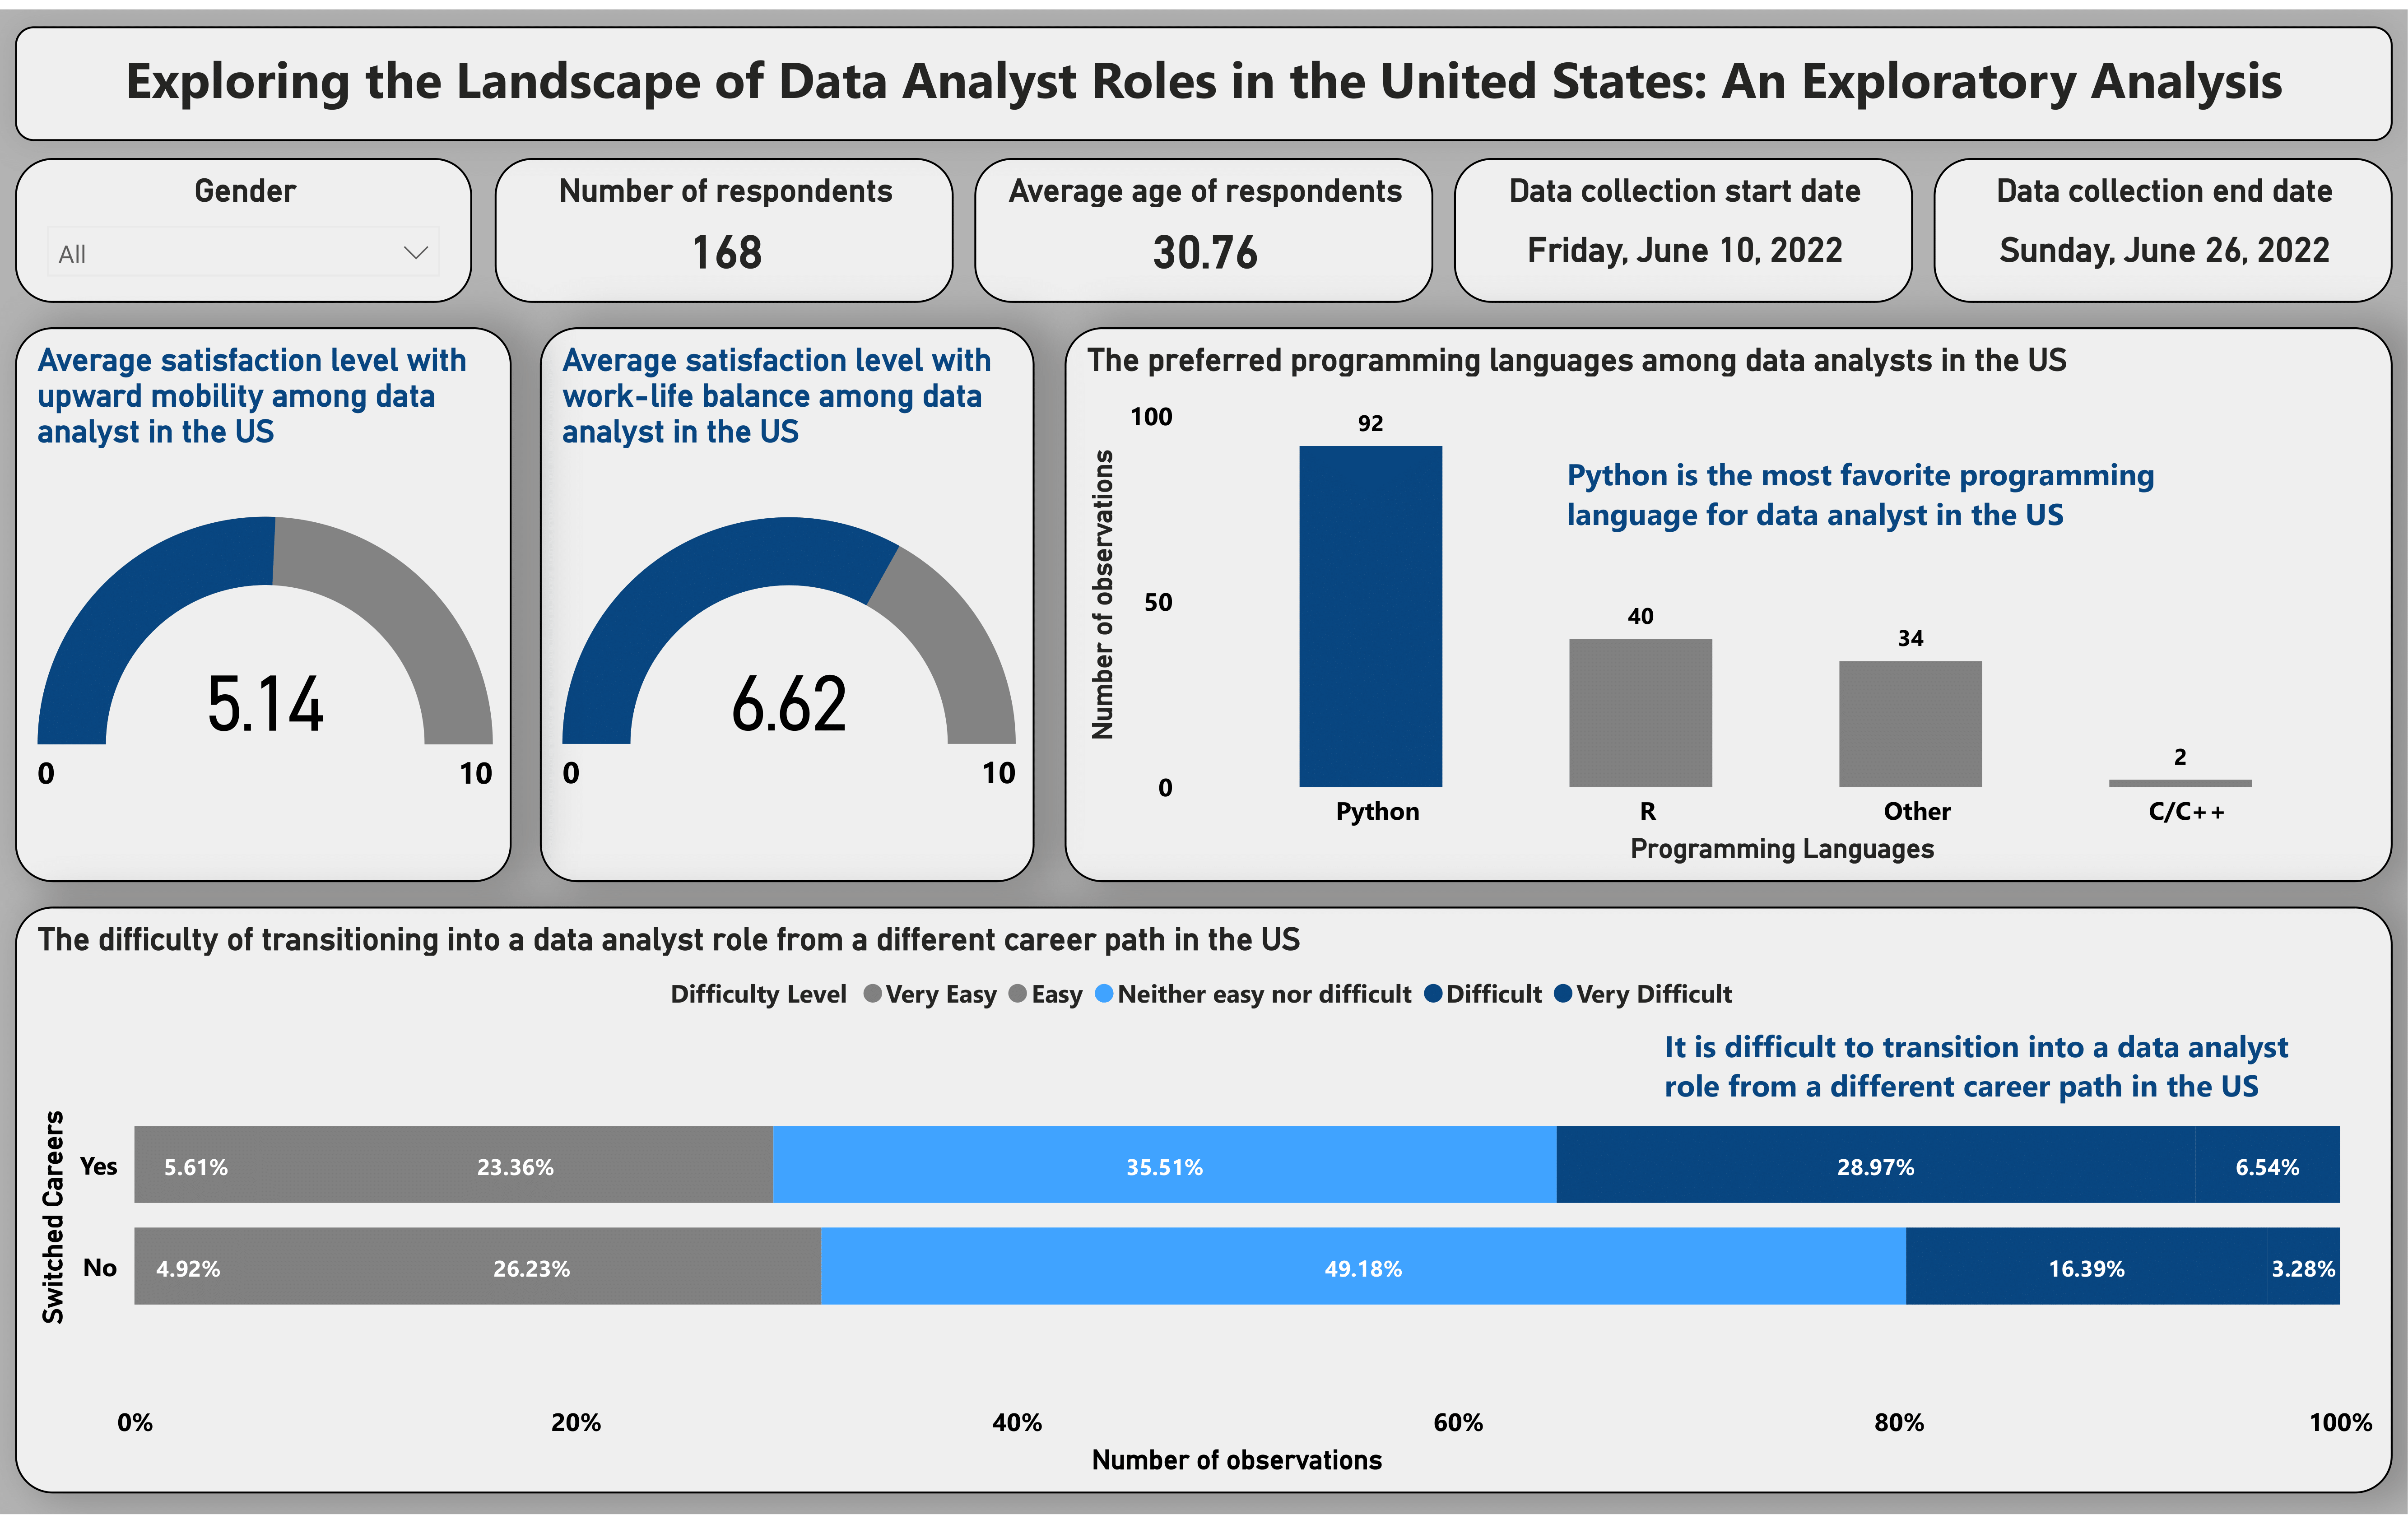

This screenshot's page, from the dashboard's own definition file:
{"tool":"powerbi","page":{"name":"data_professional_survey_analysis","canvas":[1280,800],"ordinal":0},"visuals":[{"type":"card","title":"Number of respondents","fields":{"Values":["CountNonNull(Data Analyst Survey (US).Unique ID)"]},"box":[263,79,244,77],"z":0},{"type":"card","title":"Average age of respondents","fields":{"Values":["Avg(Data Analyst Survey (US).Age)"]},"box":[518,79,244,77],"z":1000},{"type":"textbox","box":[7.8,8.7,1264.1,61.2],"z":2000},{"type":"gauge","title":"Average satisfaction level with work-life balance among data analyst in the US","fields":{"Y":["Avg(Data Analyst Survey (US).How Happy are you in your Current Position with the following? (Work/Life Balance))"],"MinValue":["Min(Data Analyst Survey (US).How Happy are you in your Current Position with the following? (Work/Life Balance))"],"MaxValue":["Max(Data Analyst Survey (US).How Happy are you in your Current Position with the following? (Work/Life Balance))"]},"box":[287,169,263,295],"z":3000},{"type":"gauge","title":"Average satisfaction level with upward mobility among data analyst in the US","fields":{"Y":["Avg(Data Analyst Survey (US).How Happy are you in your Current Position with the following? (Upward Mobility))"],"MinValue":["Min(Data Analyst Survey (US).How Happy are you in your Current Position with the following? (Upward Mobility))"],"MaxValue":["Max(Data Analyst Survey (US).How Happy are you in your Current Position with the following? (Upward Mobility))"]},"box":[8,169,264,295],"z":4000},{"type":"hundredPercentStackedBarChart","title":"The difficulty of transitioning into a data analyst role from a different career path in the US","fields":{"Y":["CountNonNull(Data Analyst Survey (US).Unique ID)"],"Category":["Data Analyst Survey (US).Did you switch careers into Data?"],"Series":["Difficulty.Difficulty"]},"box":[8,477.2,1264.5,311.9],"z":5000,"group":"g3"},{"type":"card","title":"Data collection end date","fields":{"Values":["Max(Data Analyst Survey (US).Date Taken)"]},"box":[1028,79,244,77],"z":6000},{"type":"clusteredColumnChart","title":"The preferred programming languages among data analysts in the US","fields":{"Category":["Data Analyst Survey (US).Favorite Programming Language"],"Y":["CountNonNull(Data Analyst Survey (US).Unique ID)"]},"box":[566,169,706,295],"z":6000,"group":"g2"},{"type":"slicer","title":"Gender","fields":{"Values":["Data Analyst Survey (US).Gender"]},"box":[8,79,243,77],"z":7000},{"type":"card","title":"Data collection start date","fields":{"Values":["Min(Data Analyst Survey (US).Date Taken)"]},"box":[773,79,244,77],"z":8000},{"type":"group","id":"g1","title":"Group 2","box":[566,169,706,295],"z":10000},{"type":"textbox","box":[828,231,344,61],"z":10003,"group":"g2"},{"type":"group","id":"g2","title":"Group 3","box":[566,169,706,295],"z":10005,"group":"g1"},{"type":"textbox","box":[880.1,535,363,55],"z":11000,"group":"g3"},{"type":"group","id":"g3","title":"Group 1","box":[8,477.2,1264.5,311.9],"z":11001}]}

Visuals, with their boxes in screenshot pixels (x1, y1, x2, y2), scaled from the page's 1280x800 canvas onto the 2408x1524 screenshot:
"Number of respondents" card: (495, 150, 954, 297)
"Average age of respondents" card: (975, 150, 1433, 297)
textbox: (15, 17, 2393, 133)
"Average satisfaction level with work-life balance among data analyst in the US" gauge: (540, 322, 1035, 884)
"Average satisfaction level with upward mobility among data analyst in the US" gauge: (15, 322, 511, 884)
"The difficulty of transitioning into a data analyst role from a different career path in the US" hundredPercentStackedBarChart: (15, 909, 2394, 1503)
"Data collection end date" card: (1934, 150, 2393, 297)
"The preferred programming languages among data analysts in the US" clusteredColumnChart: (1065, 322, 2393, 884)
"Gender" slicer: (15, 150, 472, 297)
"Data collection start date" card: (1454, 150, 1913, 297)
"Group 2" group: (1065, 322, 2393, 884)
textbox: (1557, 440, 2205, 556)
"Group 3" group: (1065, 322, 2393, 884)
textbox: (1656, 1019, 2338, 1124)
"Group 1" group: (15, 909, 2394, 1503)
